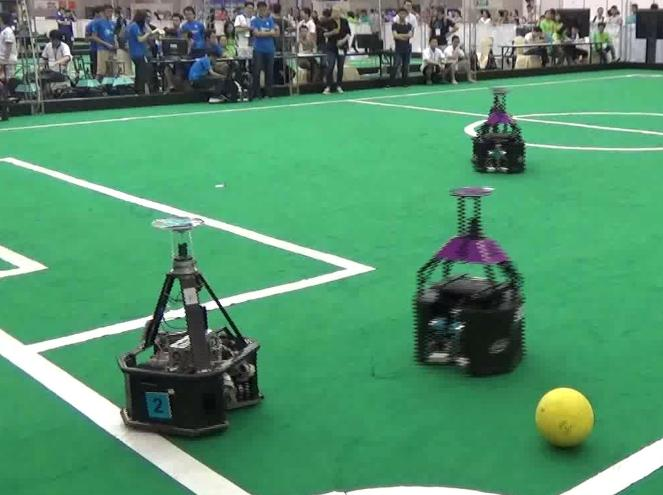robot: (118, 213, 269, 442), (406, 185, 531, 379), (467, 82, 532, 181)
